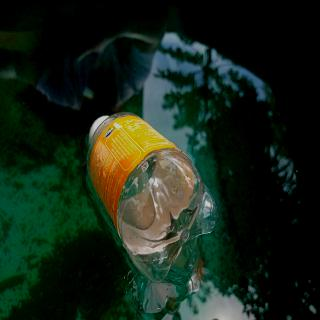bottle: (86, 110, 216, 283)
